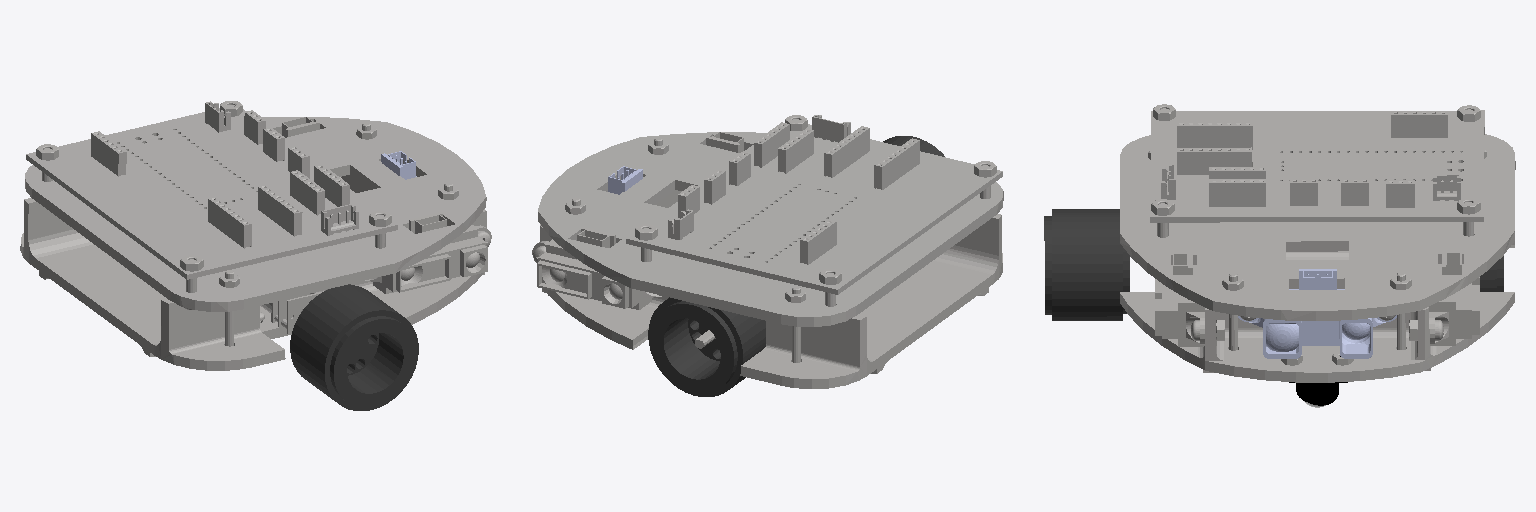
URDF robot description (taurus):
<?xml version="1.0" encoding="utf-8"?>
<!-- This URDF was automatically created by SolidWorks to URDF Exporter! Originally created by [author] ([email redacted]) 
     Commit Version: 1.6.0-4-g7f85cfe  Build Version: 1.6.7995.38578
     For more information, please see http://wiki.ros.org/sw_urdf_exporter -->    
<!--robot
  name="Taurus"-->

<robot name="taurus" xmlns:xacro="http://ros.org/wiki/xacro">
 
  <!--link name="odom_frame"/>
  <joint name="odom_joint" type="fixed">
    <parent link="odom_frame" />
    <child link = "base_link" />
    <origin xyz="0.0 0.0 0.0" rpy="0.0 0.0 0.0" />
  </joint--> 
  
  <link
    name="base_link">
    <inertial>
      <origin
        xyz="0.00293768617847148 -0.000180932444542536 0.0163820289331232"
        rpy="0 0 0" />
      <mass
        value="0.109923704165007" />
      <inertia
        ixx="0.0001"
        ixy="0"
        ixz="0"
        iyy="0.0003"
        iyz="0"
        izz="0.0002" />
    </inertial>
    <visual>
      <origin
        xyz="0 0 0"
        rpy="0 0 0" />
      <geometry>
        <mesh
          filename="package://taurus_description/meshes/base_link.STL" />
      </geometry>
      <material
        name="">
        <color
          rgba="0.745098039215686 0.737254901960784 0.729411764705882 1" />
      </material>
    </visual>
    <collision>
      <origin
        xyz="0 0 0"
        rpy="0 0 0" />
      <geometry>
        <mesh
          filename="package://taurus_description/meshes/base_link.STL" />
      </geometry>
    </collision>
  </link>
  
  
  <link name="base_footprint"/>
  
  <joint name="ground_joint" type="fixed">
    <parent link="base_footprint" />
    <child link = "base_link" />
    <origin xyz="0 0 0.005" rpy="0 0 0"/>
  </joint>
  
  <gazebo reference="base_link">
    <mu1>200</mu1>
    <mu2>200</mu2>
    <kp>1000000</kp>
    <kd>1</kd>
  </gazebo>
  
  
  <link
    name="rueda_derecha_link">
    <inertial>
      <origin
        xyz="-2.2882E-06 5.0601E-05 0.012107"
        rpy="0 0 0" />
      <mass
        value="0.08" />
      <inertia
        ixx="0.000002"
        ixy="0"
        ixz="0"
        iyy="0.000002"
        iyz="0"
        izz="0.00001" />
    </inertial>
    <visual>
      <origin
        xyz="0 0 0"
        rpy="0 0 0" />
      <geometry>
        <mesh
          filename="package://taurus_description/meshes/rueda_derecha_link.STL" />
      </geometry>
      <material
        name="">
        <color
          rgba="0.29804 0.29804 0.29804 1" />
      </material>
    </visual>
    <collision>
      <origin
        xyz="0 0 0"
        rpy="0 0 0" />
      <geometry>
        <cylinder radius="0.015" length="0.016"/>
      </geometry>
    </collision>
  </link>
  <joint
    name="rueda_derecha_joint"
    type="continuous">
    <origin
      xyz="-0.0043003 -0.059687 0.0079472"
      rpy="-1.5708 0 0" />
    <parent
      link="base_link" />
    <child
      link="rueda_derecha_link" />
    <axis
      xyz="0 0 1" />
  </joint>
  
    <gazebo reference="rueda_derecha_link">
    <mu1>200</mu1>
    <mu2>200</mu2>
    <kp>1000000</kp>
    <kd>1</kd>
  </gazebo>
  
  <link
    name="rueda_izquierda_link">
    <inertial>
      <origin
        xyz="-2.0761E-06 -8.4779E-05 0.010976"
        rpy="0 0 0" />
      <mass
        value="0.08" />
      <inertia
        ixx="0.000002"
        ixy="0"
        ixz="0"
        iyy="0.000002"
        iyz="0"
        izz="0.00001" />
    </inertial>
    <visual>
      <origin
        xyz="0 0 0"
        rpy="0 0 0" />
      <geometry>
        <mesh
          filename="package://taurus_description/meshes/rueda_izquierda_link.STL" />
      </geometry>
      <material
        name="">
        <color
          rgba="0.29804 0.29804 0.29804 1" />
      </material>
    </visual>
    <collision>
      <origin
        xyz="0 0 0"
        rpy="0 0 0" />
      <geometry>
        <cylinder radius="0.015" length="0.016"/>
      </geometry>
    </collision>
  </link>
  <joint
    name="rueda_izquierda_joint"
    type="continuous">
    <origin
      xyz="-0.0043291 0.036579 0.0080704"
      rpy="-1.5708 0 0" />
    <parent
      link="base_link" />
    <child
      link="rueda_izquierda_link" />
    <axis
      xyz="0 0 1" />
  </joint>
  
   <gazebo reference="rueda_izquierda_link">
    <mu1>200</mu1>
    <mu2>200</mu2>
    <kp>1000000</kp>
    <kd>1</kd>
  </gazebo>
  
  
  <link
    name="scan_link">
    <inertial>
      <origin
        xyz="0.010059 -0.00088382 0.000124"
        rpy="0 0 0" />
      <mass
        value="0.0055715" />
      <inertia
        ixx="5.6499E-07"
        ixy="3.6334E-08"
        ixz="3.4462E-09"
        iyy="2.3592E-07"
        iyz="-1.4863E-09"
        izz="6.4738E-07" />
    </inertial>
    <visual>
      <origin
        xyz="0 0 0"
        rpy="0 0 0" />
      <geometry>
        <mesh
          filename="package://taurus_description/meshes/scan_link.STL" />
      </geometry>
      <material
        name="">
        <color
          rgba="0.79216 0.81961 0.93333 1" />
      </material>
    </visual>
    <collision>
      <origin
        xyz="0 0 0"
        rpy="0 0 0" />
      <geometry>
        <mesh
          filename="package://taurus_description/meshes/scan_link.STL" />
      </geometry>
    </collision>
  </link>
  <joint
    name="scan_joint"
    type="fixed">
    <origin
      xyz="0.03982 9.4804E-05 0.016343"
      rpy="0 -0.0208 0" />
    <parent
      link="base_link" />
    <child
      link="scan_link" />
    <axis
      xyz="0 0 0" />
  </joint>
  <link
    name="base_castor_link">
    <inertial>
      <origin
        xyz="-3.3105E-06 -0.00019963 -0.0010622"
        rpy="0 0 0" />
      <mass
        value="0.00033463" />
      <inertia
        ixx="0.00004"
        ixy="0"
        ixz="0"
        iyy="0.00004"
        iyz="0"
        izz="0.00001" />
    </inertial>
    <visual>
      <origin
        xyz="0 0 0"
        rpy="0 0 0" />
      <geometry>
        <mesh
          filename="package://taurus_description/meshes/base_castor_link.STL" />
      </geometry>
      <material
        name="">
        <color
          rgba="0 0 0 1" />
      </material>
    </visual>
    <collision>
      <origin
        xyz="0 0 0"
        rpy="0 0 0" />
      <geometry>
        <mesh
          filename="package://taurus_description/meshes/base_castor_link.STL" />
      </geometry>
    </collision>
  </link>
  <joint
    name="base_castor_joint"
    type="fixed">
    <origin
      xyz="0.056575 0 0.0034302"
      rpy="0 0 0" />
    <parent
      link="base_link" />
    <child
      link="base_castor_link" />
    <axis
      xyz="0 0 0" />
  </joint>
  
    <gazebo reference="base_castor_link">
    <mu1>0.1</mu1>
    <mu2>0.1</mu2>
    <kp>1000000</kp>
    <kd>1</kd>
  </gazebo>
  
  
  <link
    name="caster_ball_link">
    <inertial>
      <origin
        xyz="0 1.3878E-17 0"
        rpy="0 0 0" />
      <mass
        value="0.06" />
      <inertia
        ixx="0.00004"
        ixy="0"
        ixz="0"
        iyy="0.00004"
        iyz="0"
        izz="0.000001" />
    </inertial>
    <visual>
      <origin
        xyz="0 0 0"
        rpy="0 0 0" />
      <geometry>
        <mesh
          filename="package://taurus_description/meshes/caster_ball_link.STL" />
      </geometry>
      <material
        name="">
        <color
          rgba="1 1 1 1" />
      </material>
    </visual>
    <collision>
      <origin
        xyz="0 0 0"
        rpy="0 0 0" />
      <geometry>
        <sphere radius="0.005"/>
      </geometry>
    </collision>
  </link>
  

  
  <joint
    name="caster_ball_joint"
    type="fixed">
    <origin
      xyz="-1.325E-05 -3.8318E-05 -0.004121"
      rpy="-1.5708 0 0" />
    <parent
      link="base_castor_link" />
    <child
      link="caster_ball_link" />
    <axis
      xyz="0 0 0" />
    <limit
      lower="0"
      upper="0"
      effort="0"
      velocity="0" />
  </joint>
  
  <gazebo reference="caster_ball_link">
    <mu1>0.1</mu1>
    <mu2>0.1</mu2>
    <kp>1000000</kp>
    <kd>1</kd>
  </gazebo> 
  
  <link name="imu_link"/>
  <joint
    name="imu_joint"
    type="fixed">
    <origin
      xyz="0.0 0 0.0"
      rpy="0 -0.07 0" />
    <parent
      link="base_link" />
    <child
      link="imu_link" />
  </joint>  
  



  
  <!--LIDAR CONFIGURATION-->

  <gazebo reference="scan_link">
    <sensor name="lidar" type="ray">
    
      <always_on>true</always_on>
      <visualize>true</visualize>
      <update_rate>10</update_rate>
      <ray>
        <scan>
          <horizontal>
            <samples>180</samples>
            <resolution>1.000000</resolution>
            <min_angle>-1.57079</min_angle>
            <max_angle>1.57079</max_angle>
          </horizontal>
        </scan>
        <range>
          <min>0.05</min>
          <max>1.0</max>
          <resolution>0.015</resolution>
        </range>
        <noise>
          <type>gaussian</type>
          <mean>0.0</mean>
          <stddev>0.01</stddev>
        </noise>
      </ray>
      <plugin name="scan" filename="libgazebo_ros_ray_sensor.so">
        <ros>
          <remapping>~/out:=laser_scan</remapping>
        </ros>
        <output_type>sensor_msgs/LaserScan</output_type>
        <frame_name>scan_link</frame_name>
      </plugin>
    </sensor>
  </gazebo>

  <gazebo reference="scan_link">
    <mu1>0.1</mu1>
    <mu2>0.1</mu2>
    <kp>100000</kp>
    <kd>1</kd>
    <material>Gazebo/Black</material>
  </gazebo>

  <!--IMU sensor-->

  <gazebo reference="imu_link">
    <gravity>true</gravity>
    <sensor name="imu_sensor" type="imu">
      <always_on>true</always_on>
      <update_rate>100</update_rate>
      <visualize>true</visualize>
      <topic>imu_data</topic>
      <plugin filename="libgazebo_ros_imu_sensor.so" name="imu_plugin">
        <topicName>imu_data</topicName>
        <bodyName>imu_link</bodyName>
        <updateRateHZ>10.0</updateRateHZ>
        <gaussianNoise>0.03</gaussianNoise>
        <xyzOffset>0 0 0</xyzOffset>
        <rpyOffset>0 0 0</rpyOffset>
        <frameName>imu_link</frameName>
        <initialOrientationAsReference>true</initialOrientationAsReference>
      </plugin>
      <pose>0 0 0 0 0 0</pose>
    </sensor>
  </gazebo>
  

<gazebo>
    <plugin name="two_wheeled_robot_diff_drive" filename="libgazebo_ros_diff_drive.so">
 
      <update_rate>100</update_rate>
      
      <!-- wheels -->
      <left_joint>rueda_izquierda_joint</left_joint>
      <right_joint>rueda_derecha_joint</right_joint>
 
      <!-- kinematics -->
      <wheel_separation>0.07</wheel_separation>
      <wheel_diameter>0.030</wheel_diameter>
 
      <!-- limits -->
      <max_wheel_torque>20</max_wheel_torque>
      <max_wheel_acceleration>20.0</max_wheel_acceleration>
 
      <!-- Receive velocity commands on this ROS topic -->
      <command_topic>cmd_vel</command_topic>
 
      <!-- output -->
      <!-- When false, publish no wheel odometry data to a ROS topic -->
      <publish_odom>true</publish_odom>
 
      <!-- When true, publish coordinate transform from odom to base_footprint -->
      <!-- I usually use the robot_localization package to publish this transform -->  
      <publish_odom_tf>false</publish_odom_tf>
     
      <!-- When true, publish coordinate transform from base_link to the wheels -->
      <!-- The robot_state_publisher package is often used to publish this transform -->  
      <publish_wheel_tf>true</publish_wheel_tf>
 
      <odometry_topic>odom</odometry_topic>
      <odometry_frame>odom_link</odometry_frame>
      <robot_base_frame>base_footprint</robot_base_frame>
 
      <odometry_source>1</odometry_source>
      <ros>
        <remapping>odom:=wheel/odometry</remapping>
      </ros>
    </plugin>
  </gazebo>

  <gazebo>
    <plugin name="gazebo_ros_joint_state_publisher"
        filename="libgazebo_ros_joint_state_publisher.so">
        <update_rate>100</update_rate>
        <joint_name>Base_castor_joint</joint_name>
        <joint_name>rueda_castor_joint</joint_name>
    </plugin>
  </gazebo>

  
</robot>

--- Facts derived from the render (not from the file) ---
The picture shows the robot from 3 angles, left to right: view 1: azimuth 30°, elevation 25°; view 2: azimuth 150°, elevation 25°; view 3: azimuth 270°, elevation 25°; orthographic projection.
Robot: taurus — 8 links, 7 joints (2 continuous, 5 fixed); root link base_footprint; default pose: every joint at zero.
Visible links, largest first — view 1: base_link, rueda_derecha_link, scan_link; view 2: base_link, rueda_izquierda_link, scan_link; view 3: base_link, rueda_derecha_link, scan_link, base_castor_link, rueda_izquierda_link.
Link boxes in pixels (left/top/right/bottom): base_link: left=20, top=101, right=491, bottom=370; rueda_derecha_link: left=290, top=285, right=418, bottom=410; scan_link: left=381, top=151, right=416, bottom=179; base_link: left=532, top=115, right=1003, bottom=388; rueda_izquierda_link: left=648, top=297, right=765, bottom=396; scan_link: left=608, top=166, right=642, bottom=194; base_link: left=1120, top=104, right=1515, bottom=382; rueda_derecha_link: left=1044, top=209, right=1129, bottom=320; scan_link: left=1238, top=269, right=1396, bottom=358; base_castor_link: left=1289, top=356, right=1347, bottom=405; rueda_izquierda_link: left=1480, top=256, right=1503, bottom=291.
Bounding box of the posed robot: 0.1151 × 0.1263 × 0.0478 m (x, y, z).
6 mesh visuals loaded from 6 distinct referenced files (6 binary STL).
